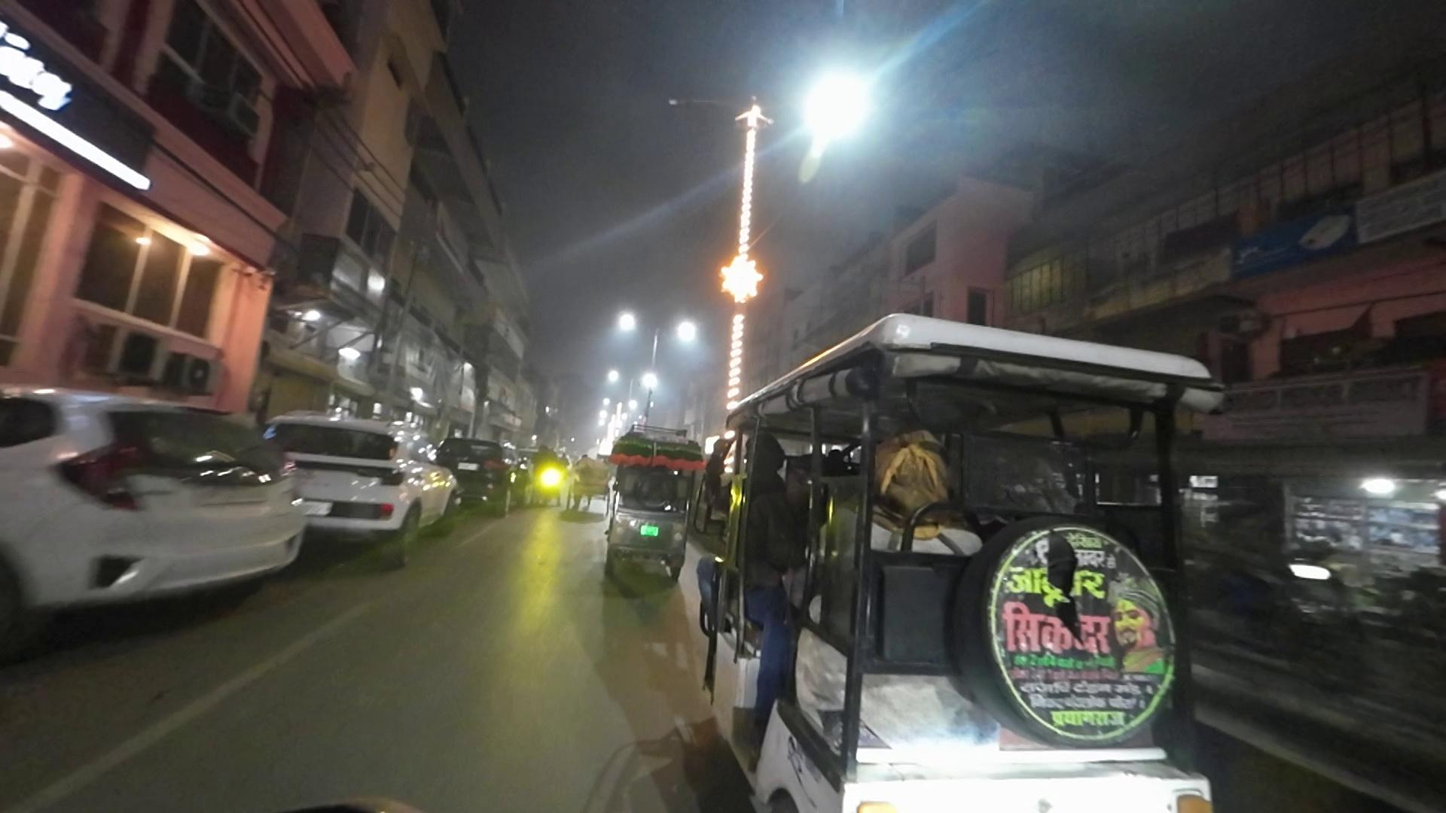streetlight: (666, 93, 730, 111)
